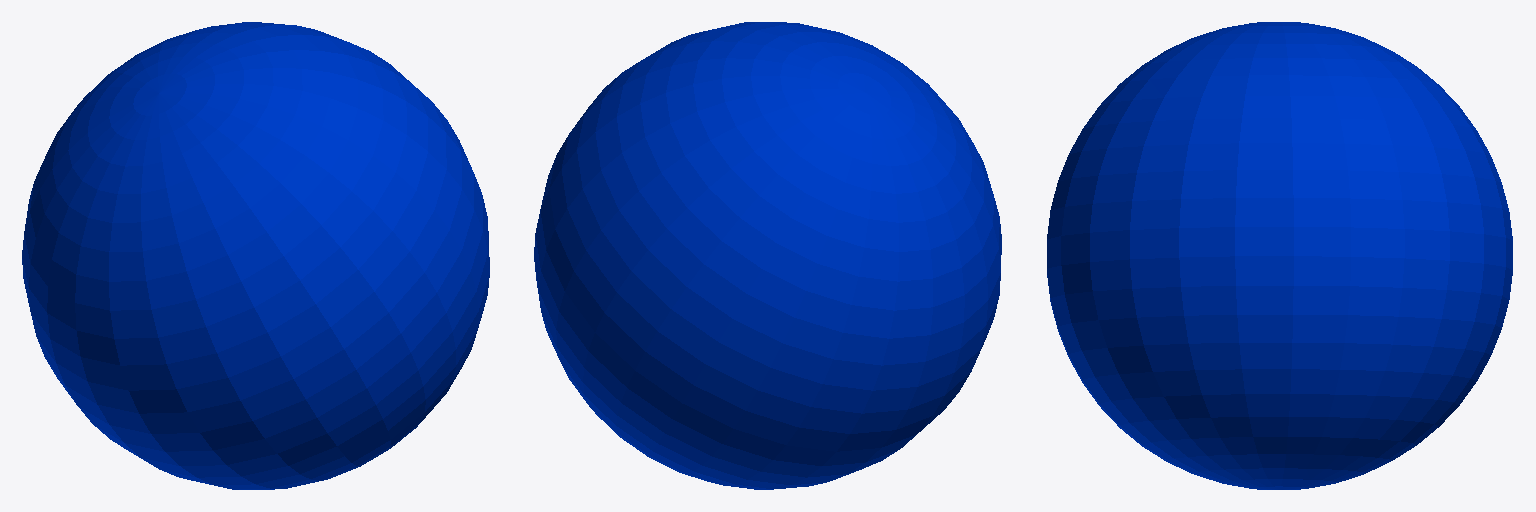
File: CubeWITHAnim0017.obj
3 views of the same model, side by side, from view 1: azimuth 30°, elevation 25°; view 2: azimuth 150°, elevation 25°; view 3: azimuth 270°, elevation 25° (orthographic).
Visible parts, largest first — view 1: NEWJumpBall_Sphere; view 2: NEWJumpBall_Sphere; view 3: NEWJumpBall_Sphere.
Part boxes in pixels (bbox=[...]): NEWJumpBall_Sphere: bbox=[22, 22, 489, 489]; NEWJumpBall_Sphere: bbox=[534, 22, 1001, 489]; NEWJumpBall_Sphere: bbox=[1047, 22, 1512, 489].
Bounding box in the file's own units: 1.99 × 2 × 1.99.